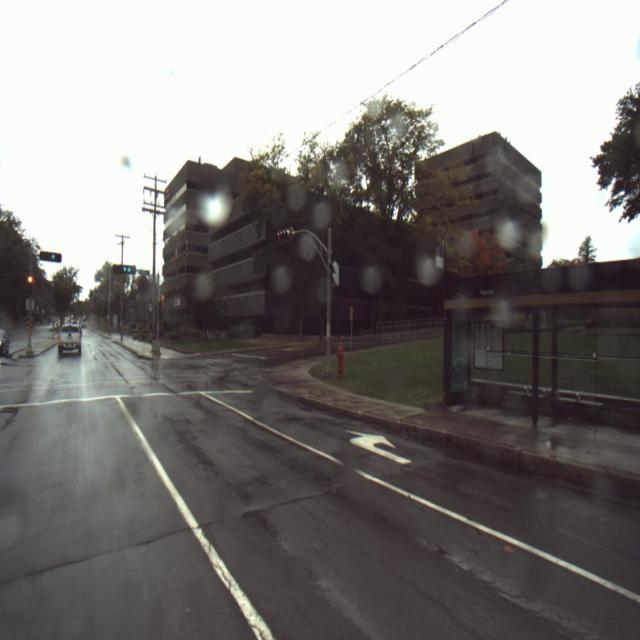car: (58, 324, 82, 359), (0, 328, 10, 358), (276, 228, 293, 244)
trafficLight: (27, 275, 33, 284)
trafficLight-Green: (45, 251, 58, 263), (120, 264, 132, 275)
trafficLight-Red: (160, 294, 167, 310)
